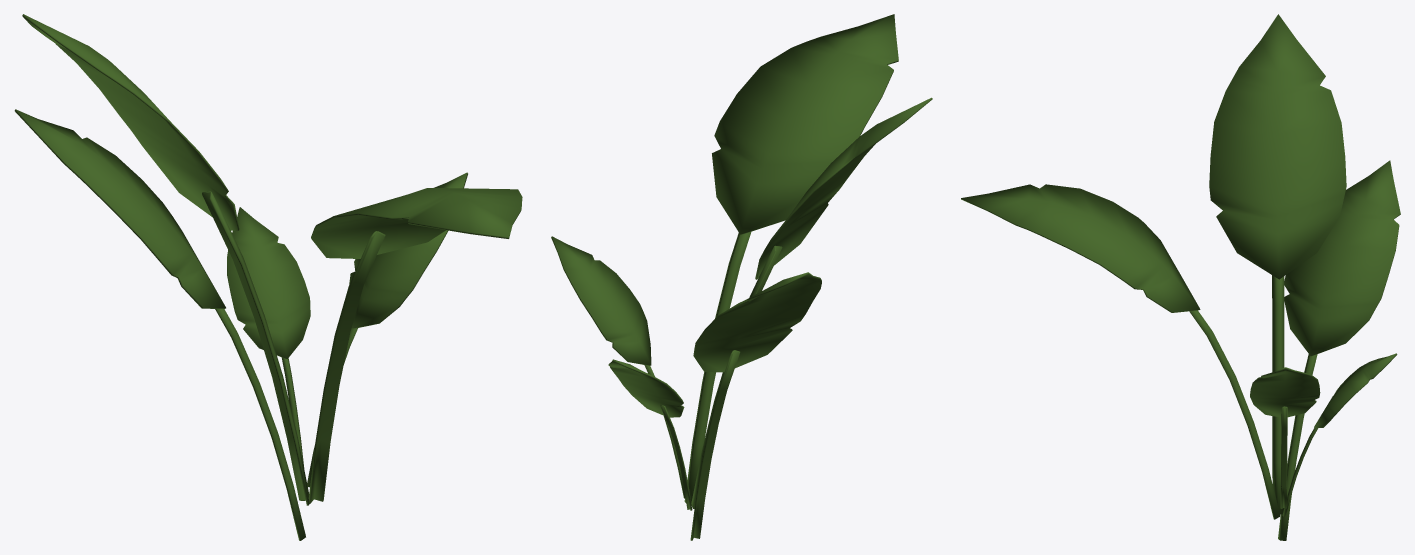
Rendered from Palm_M.fbx.
3 renders of one model, left to right at view 1: azimuth 30°, elevation 25°; view 2: azimuth 150°, elevation 25°; view 3: azimuth 270°, elevation 25°, orthographic. The views are drawn at different scales.
Visible parts, largest first — view 1: Plane.001; view 2: Plane.001; view 3: Plane.001.
Part boxes in pixels (x1=…): Plane.001: x1=14, y1=14, x2=522, y2=540; Plane.001: x1=551, y1=14, x2=932, y2=540; Plane.001: x1=961, y1=14, x2=1400, y2=540.
Bounding box in the file's own units: 227 × 286 × 266.
